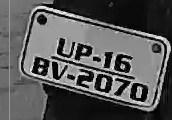0: (129, 80, 149, 103), (94, 73, 111, 92)
1: (101, 48, 113, 69)
2: (75, 68, 95, 90)
6: (114, 50, 134, 75)
7: (114, 76, 131, 101)
B: (30, 54, 50, 78)
P: (74, 41, 92, 65)
U: (54, 35, 75, 60)
V: (51, 61, 68, 83)
